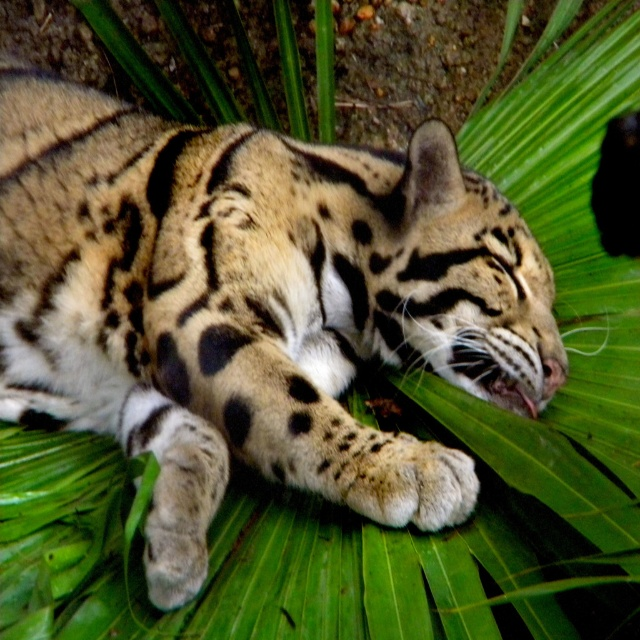Jaguar: (0, 49, 618, 610)
